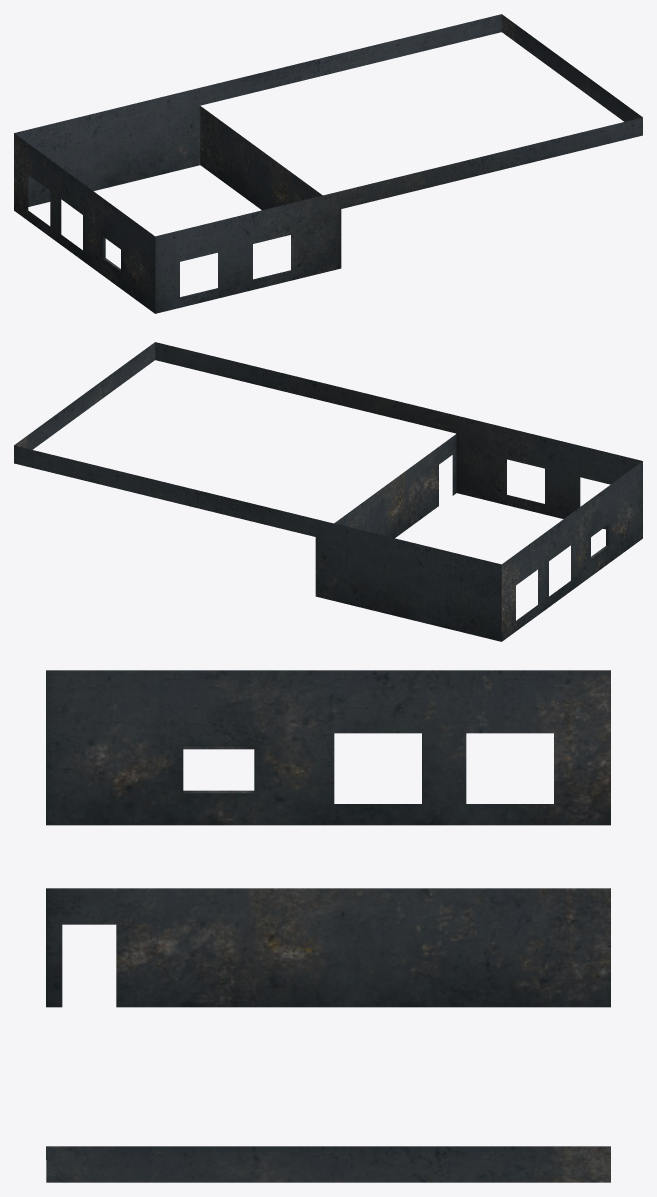
Rendered from GroundBase.FBX.
The picture shows the model from 3 angles, top to bottom: view 1: azimuth 30°, elevation 25°; view 2: azimuth 150°, elevation 25°; view 3: azimuth 270°, elevation 25°; orthographic projection. The views are drawn at different scales.
Parts seen in each view (by area): view 1: GroundBase; view 2: GroundBase; view 3: GroundBase.
Boxes of the visible parts, x1,y1,x2,y2 form: GroundBase: (14, 14, 642, 313); GroundBase: (14, 342, 642, 641); GroundBase: (46, 670, 610, 1182).
Bounding box in the file's own units: 3367 × 512 × 1688.
